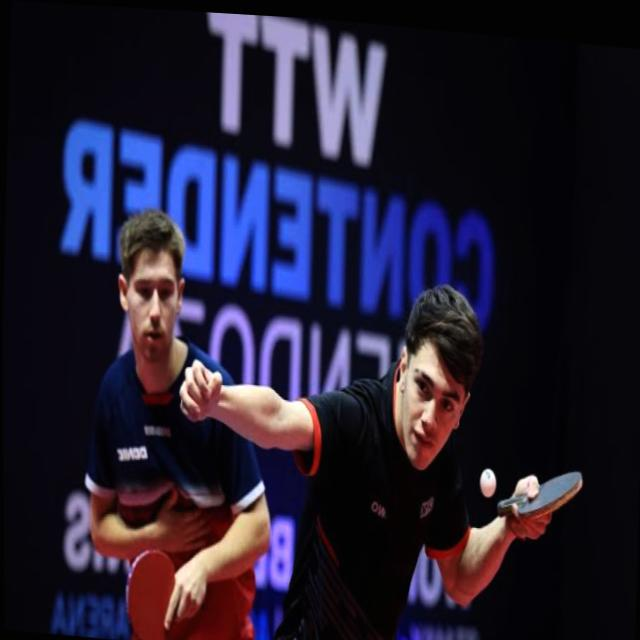TT Racket: (117, 533, 187, 640), (511, 465, 591, 532)
